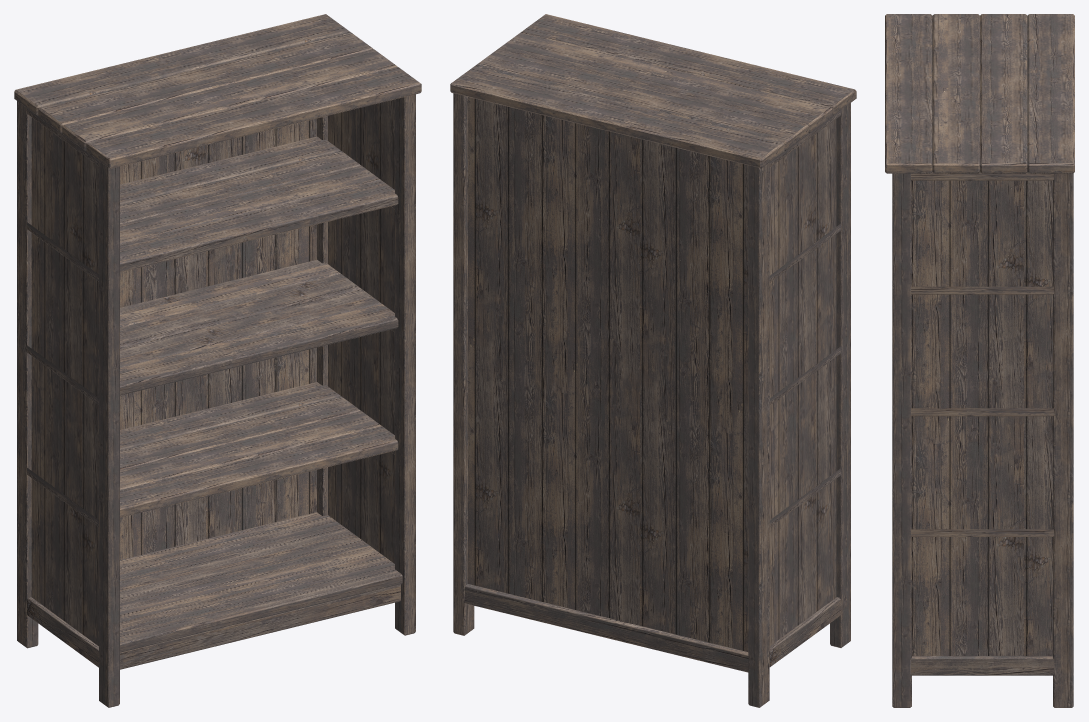
Rendered from WoodCupboard02.FBX.
3 views of the same model, side by side, from view 1: azimuth 30°, elevation 25°; view 2: azimuth 150°, elevation 25°; view 3: azimuth 270°, elevation 25° (orthographic).
Visible parts, largest first — view 1: WoodCupboard02; view 2: WoodCupboard02; view 3: WoodCupboard02.
Part boxes in pixels (x1,y1,x2,y2): WoodCupboard02: (14,14,421,707); WoodCupboard02: (450,14,856,707); WoodCupboard02: (885,14,1074,707).
Size of the model in its own units: 44.29 by 23.55 by 74.64.
